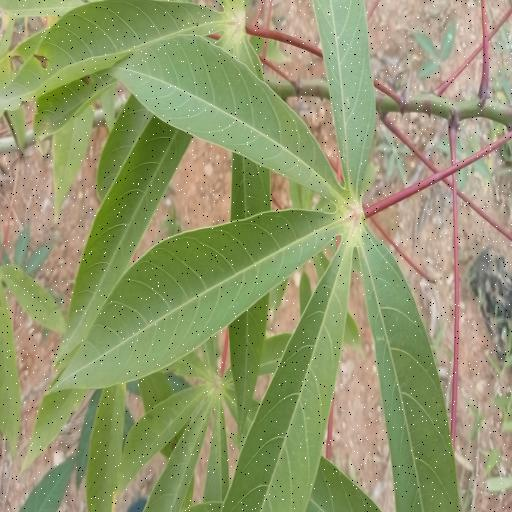Cassava_Healthy: (55, 4, 464, 512)
